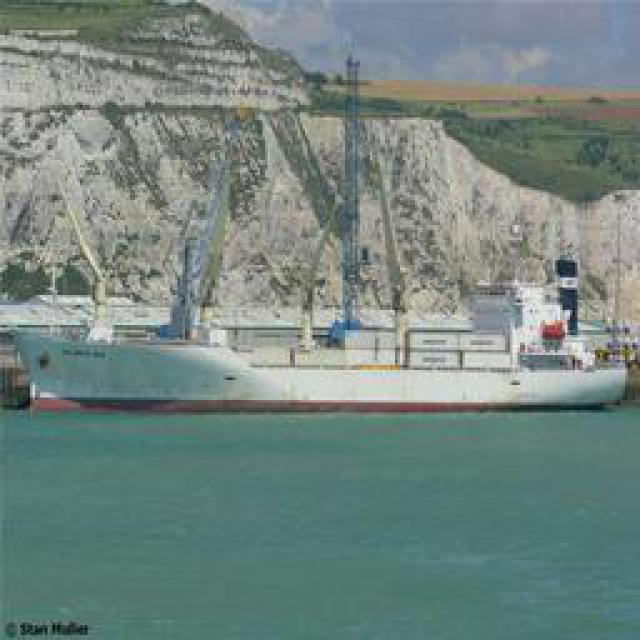Ship: (14, 306, 624, 414)
